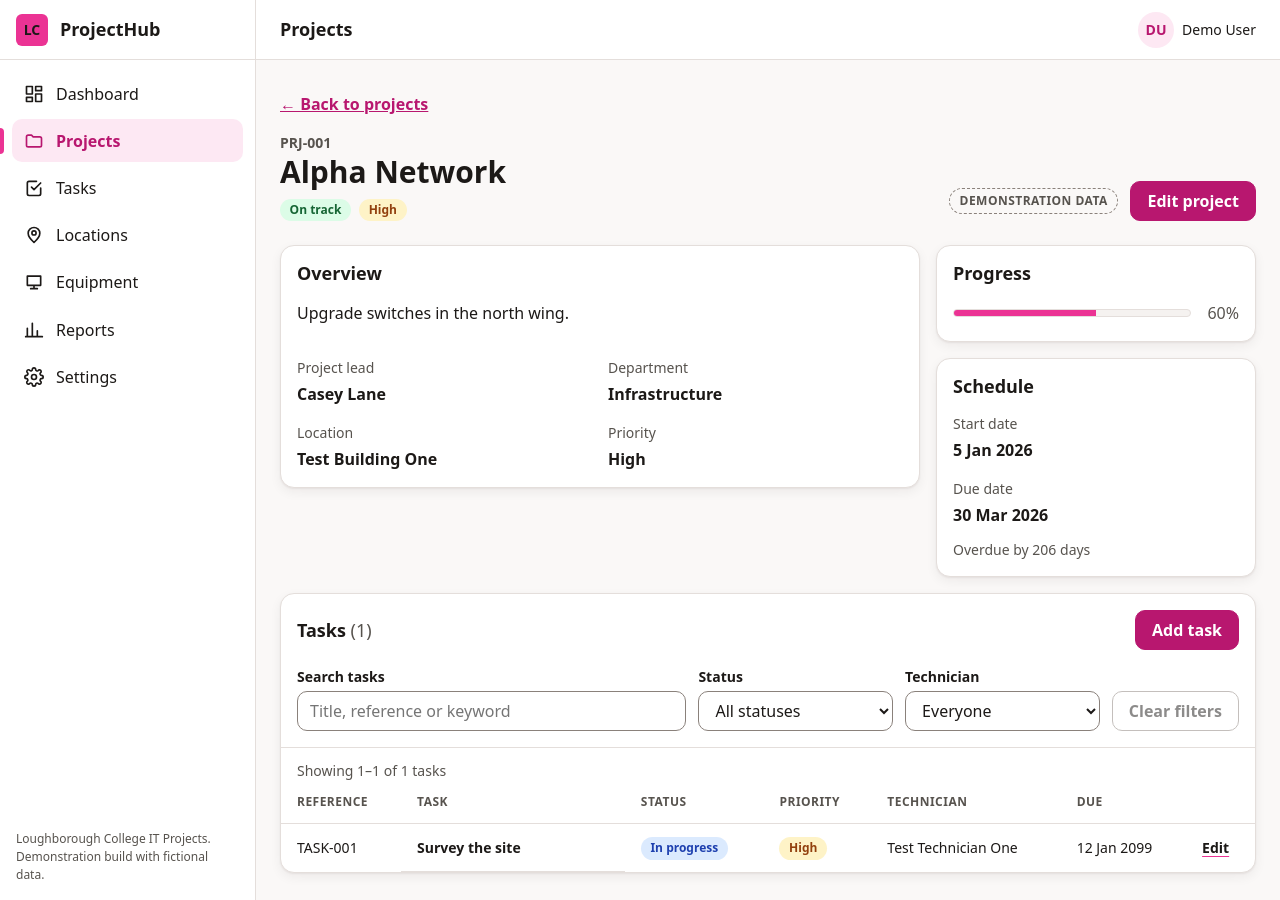
Test case: tasks on the project page › shows the project’s tasks and offers Add task, which opens the creation form
Expected: the column heading "Survey the site" is shown, [401,824,625,872]
Click the link "Add task": [1187, 630] box [1135,610,1239,650]
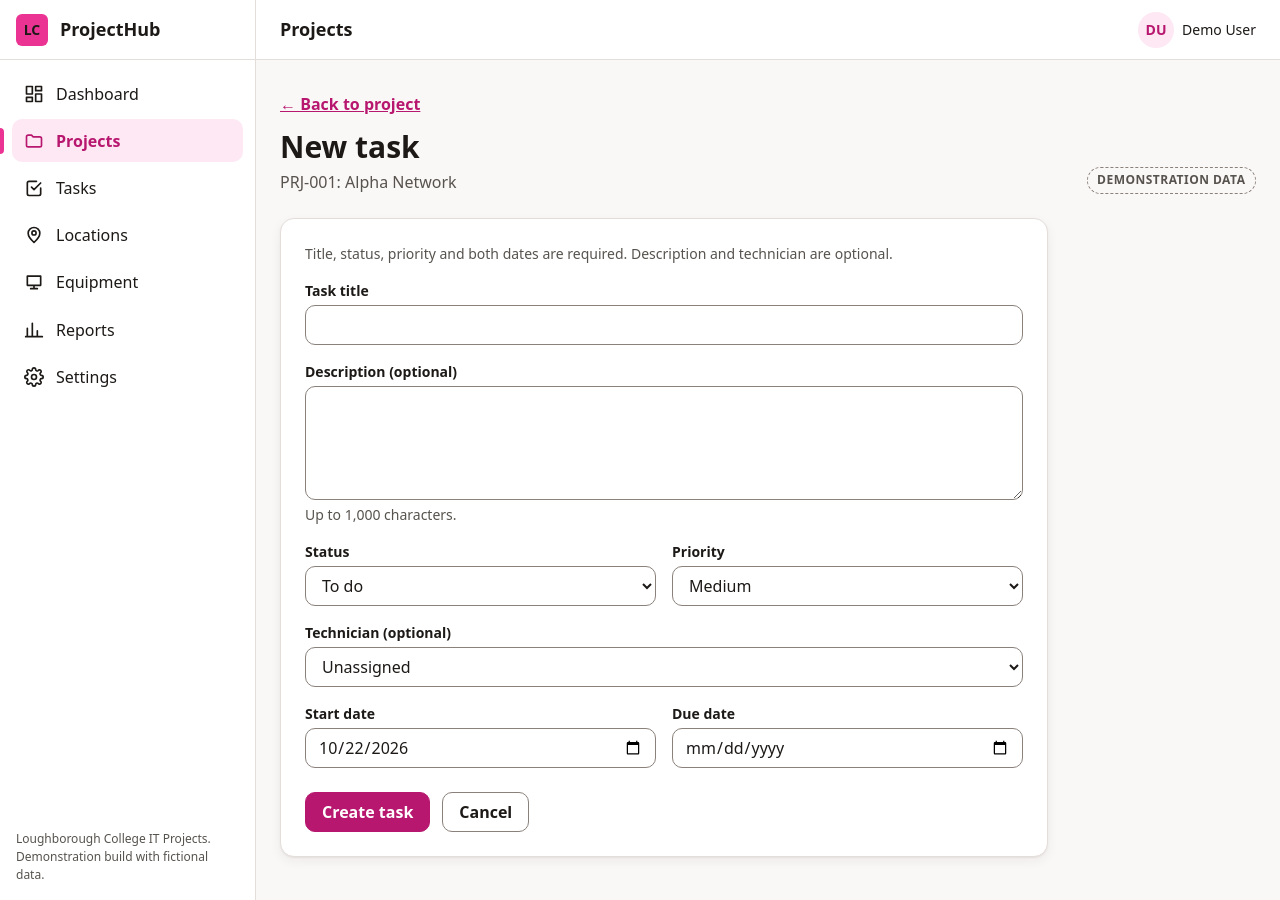
Now the heading "New task" is shown, box [280,126,420,167]
